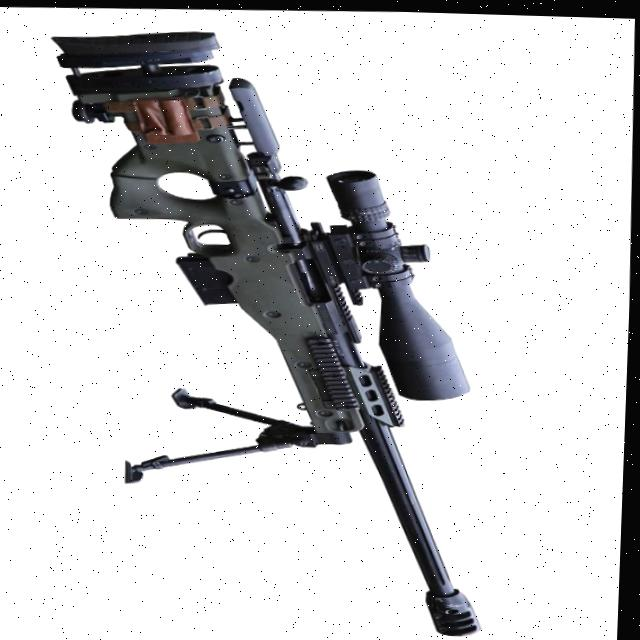firearm: (29, 19, 506, 640)
